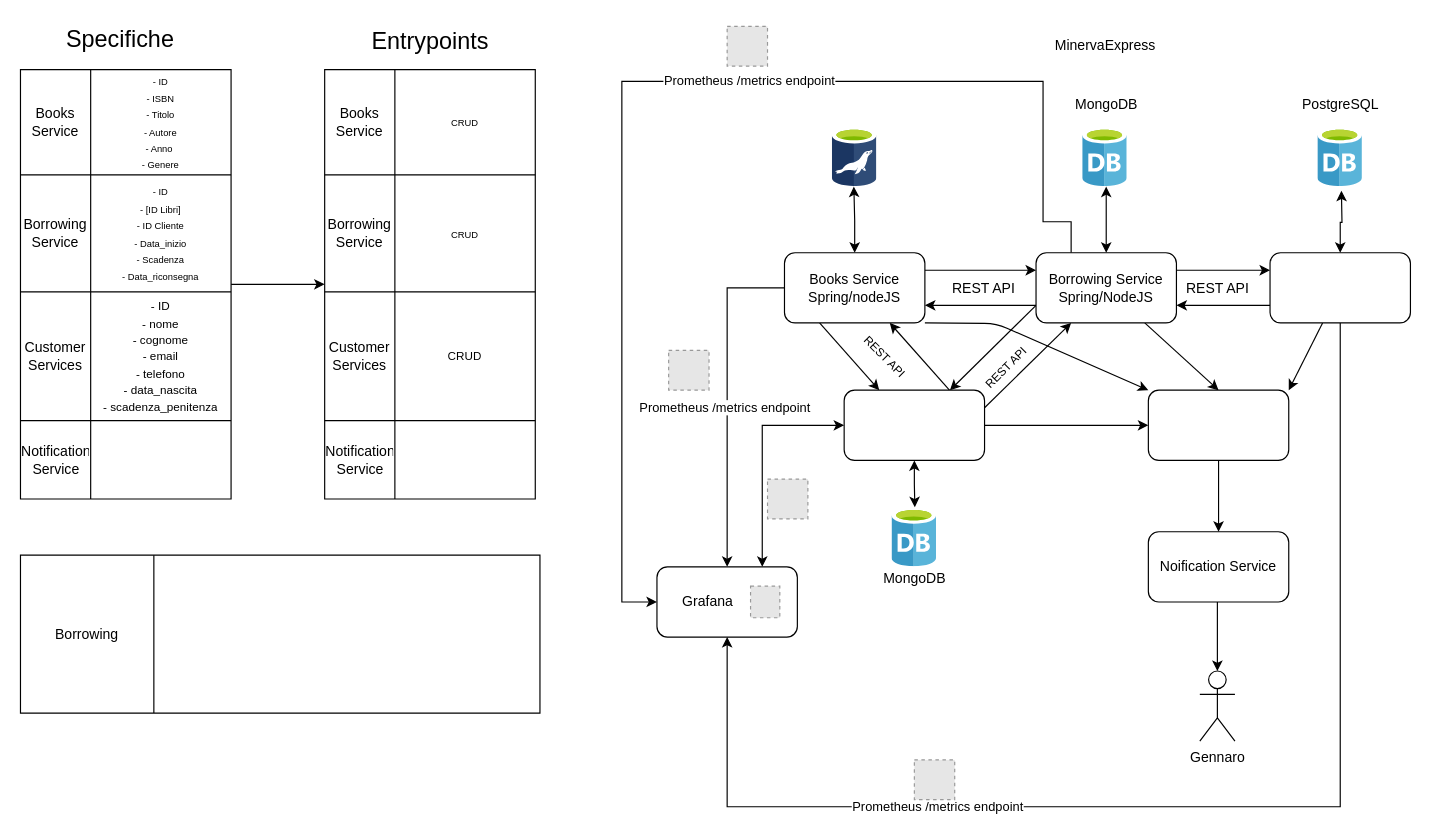
Image size: 1431x837. Some labels were removed from this diagram. Grey dashed boxes stand in for pictures. Here are the shapes that lost their labels. From the top down, the centre of each, then its label:
At point (1339, 287): "Customers Service Spring/NodeJS".
At point (914, 424): "Reservation Service Spring/NodeJS".
At point (1218, 424): "RabbitMQ".
